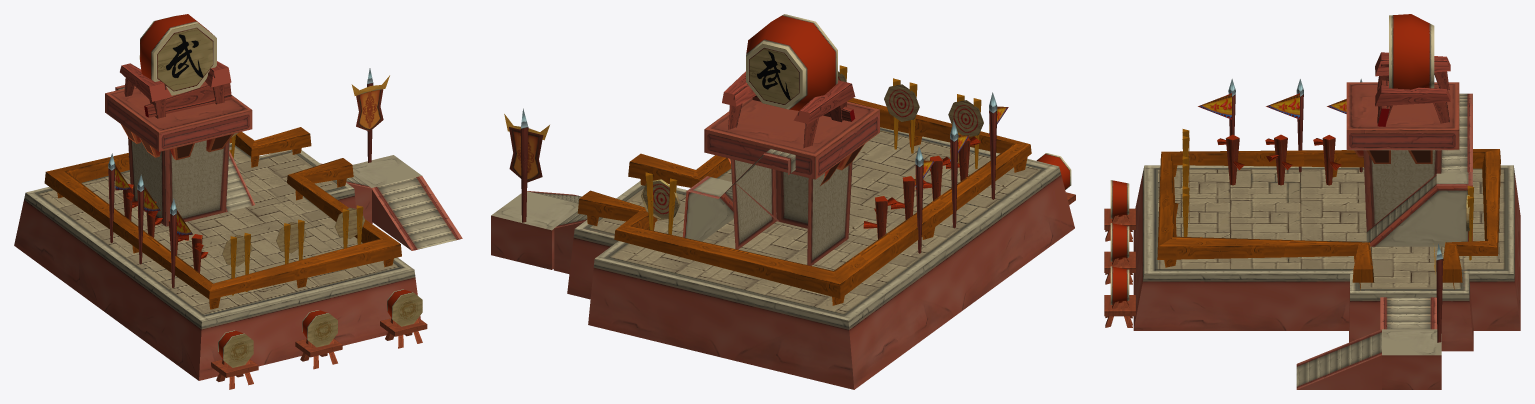
File: Warrior.FBX
3 renders of one model, left to right at view 1: azimuth 30°, elevation 25°; view 2: azimuth 150°, elevation 25°; view 3: azimuth 270°, elevation 25°, orthographic. The views are drawn at different scales.
Visible parts, largest first — view 1: Warrior; view 2: Warrior; view 3: Warrior.
Boxes of the visible parts, x1,y1,x2,y2 form: Warrior: (14,14,462,389); Warrior: (491,14,1075,389); Warrior: (1104,14,1520,389).
Size of the model in its own units: 104 by 105 by 71.05.
